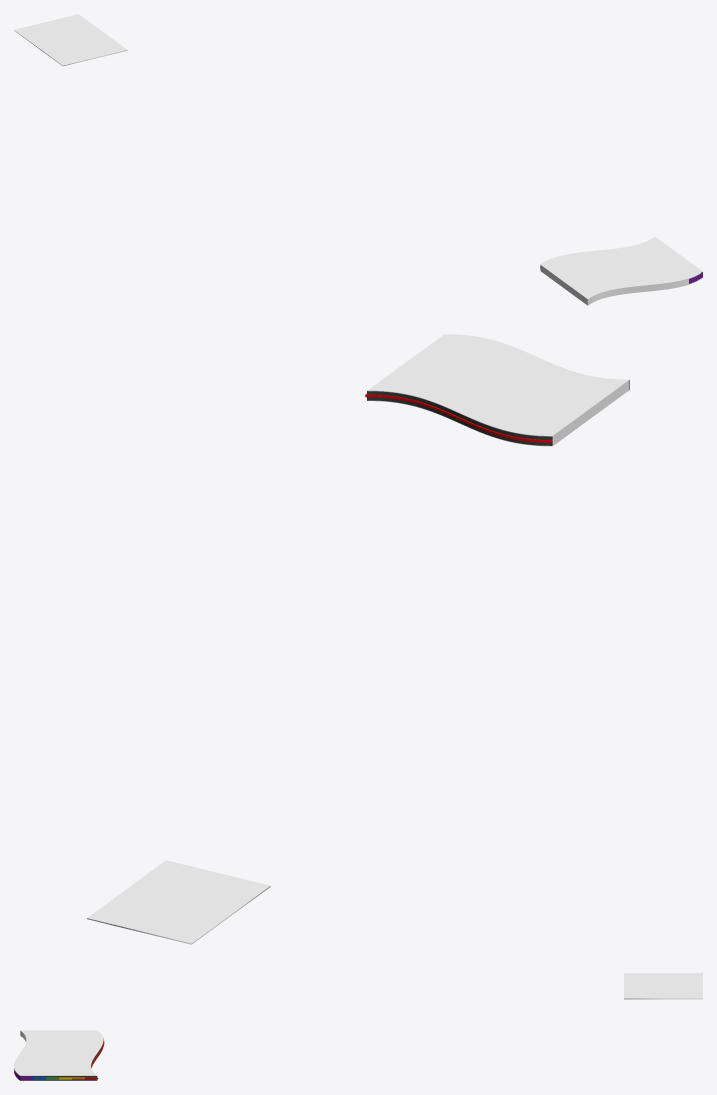
The model's file is emoji_u1f3f3_200d_1f308.glb.
3 views of the same model, one above another, from view 1: azimuth 30°, elevation 25°; view 2: azimuth 150°, elevation 25°; view 3: azimuth 270°, elevation 25° (orthographic). The views are drawn at different scales.
Parts seen in each view (by area): view 1: emoji_u1f3f3_200d_1f308; view 2: emoji_u1f3f3_200d_1f308; view 3: emoji_u1f3f3_200d_1f308.
Part boxes in pixels (left/top/right/bottom): emoji_u1f3f3_200d_1f308: left=14, top=14, right=702, bottom=305; emoji_u1f3f3_200d_1f308: left=87, top=334, right=629, bottom=944; emoji_u1f3f3_200d_1f308: left=14, top=973, right=702, bottom=1080.
Bounding box in the file's own units: 0.0781 × 0.0018 × 0.2162.
